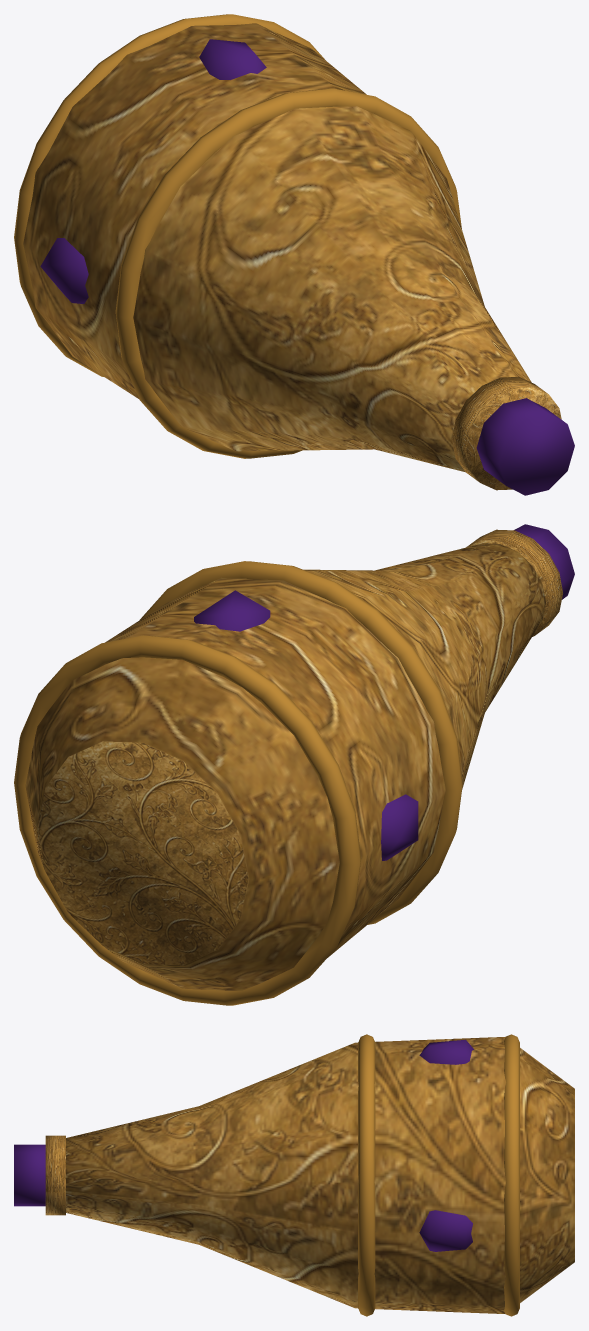
File: item_item312.glb
3 renders of one model, top to bottom at view 1: azimuth 30°, elevation 25°; view 2: azimuth 150°, elevation 25°; view 3: azimuth 270°, elevation 25°, orthographic. The views are drawn at different scales.
Visible parts, largest first — view 1: props_item312; view 2: props_item312; view 3: props_item312.
Part boxes in pixels (box(x1,y1,x2,y2)): props_item312: box(14, 14, 574, 495); props_item312: box(14, 524, 574, 1005); props_item312: box(14, 1034, 574, 1316).
Bounding box in the file's own units: 0.5094 × 0.5051 × 0.97.
3 materials, 1 textured.
